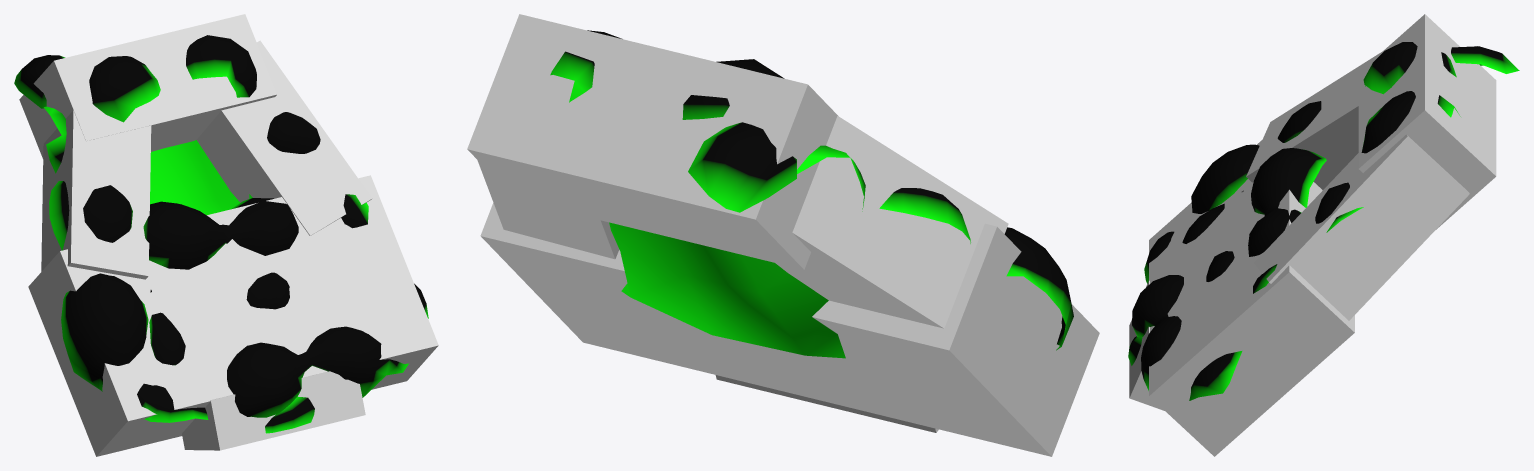
The model's file is MSH_Guts_BossBase_Guts.fbx.
3 views of the same model, side by side, from view 1: azimuth 30°, elevation 25°; view 2: azimuth 150°, elevation 25°; view 3: azimuth 270°, elevation 25° (orthographic). The views are drawn at different scales.
Parts seen in each view (by area): view 1: MSH_Guts_BossBase_Guts, COL_Guts_BossBase_Guts_01, COL_Guts_BossBase_Guts_04, COL_Guts_BossBase_Guts_03, COL_Guts_BossBase_Guts_02, COL_Guts_BossBase_Guts_05; view 2: COL_Guts_BossBase_Guts_01, COL_Guts_BossBase_Guts_04, MSH_Guts_BossBase_Guts, COL_Guts_BossBase_Guts_02, COL_Guts_BossBase_Guts_03, COL_Guts_BossBase_Guts_05; view 3: COL_Guts_BossBase_Guts_01, MSH_Guts_BossBase_Guts, COL_Guts_BossBase_Guts_03, COL_Guts_BossBase_Guts_04, COL_Guts_BossBase_Guts_02, COL_Guts_BossBase_Guts_05.
Part boxes in pixels (x1,y1,x2,y2): MSH_Guts_BossBase_Guts: (14, 35, 428, 433); COL_Guts_BossBase_Guts_01: (28, 175, 438, 456); COL_Guts_BossBase_Guts_04: (19, 14, 277, 158); COL_Guts_BossBase_Guts_03: (196, 40, 372, 235); COL_Guts_BossBase_Guts_02: (41, 110, 151, 279); COL_Guts_BossBase_Guts_05: (182, 371, 365, 450); COL_Guts_BossBase_Guts_01: (480, 203, 1099, 456); COL_Guts_BossBase_Guts_04: (467, 14, 837, 269); MSH_Guts_BossBase_Guts: (550, 30, 1073, 358); COL_Guts_BossBase_Guts_02: (775, 116, 1008, 328); COL_Guts_BossBase_Guts_03: (477, 160, 619, 259); COL_Guts_BossBase_Guts_05: (715, 375, 938, 432); COL_Guts_BossBase_Guts_01: (1149, 140, 1354, 456); MSH_Guts_BossBase_Guts: (1128, 42, 1519, 400); COL_Guts_BossBase_Guts_03: (1254, 134, 1469, 320); COL_Guts_BossBase_Guts_04: (1358, 14, 1496, 229); COL_Guts_BossBase_Guts_02: (1246, 51, 1382, 189); COL_Guts_BossBase_Guts_05: (1129, 280, 1164, 410).
Bounding box in the file's own units: 7.44 × 6.38 × 6.96.
